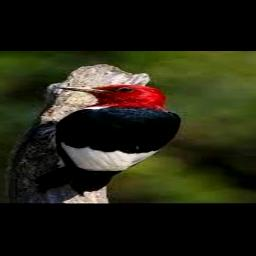Woodpecker: (36, 85, 186, 195)
